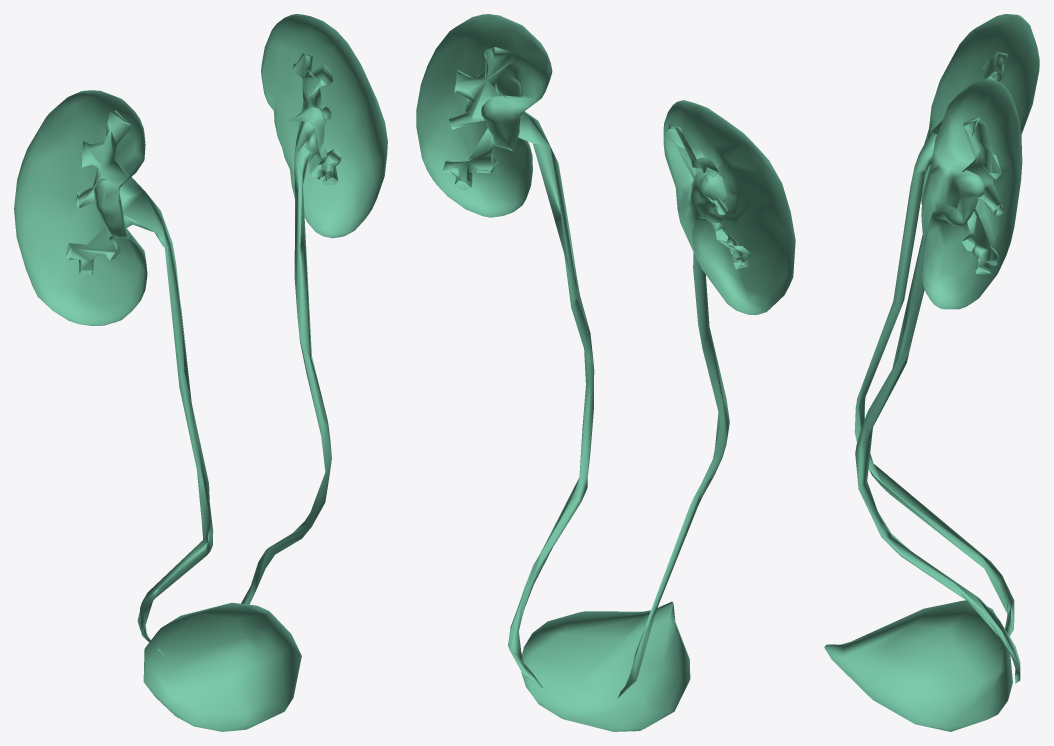
File: urinario.glb
3 views of the same model, side by side, from view 1: azimuth 30°, elevation 25°; view 2: azimuth 150°, elevation 25°; view 3: azimuth 270°, elevation 25° (orthographic). The views are drawn at different scales.
Parts seen in each view (by area): view 1: rins, ureteres, bexiga; view 2: rins, ureteres, bexiga; view 3: rins, bexiga, ureteres.
Boxes of the visible parts, x1,y1,x2,y2 form: rins: [14, 14, 387, 325]; ureteres: [65, 53, 341, 656]; bexiga: [143, 602, 301, 731]; rins: [416, 14, 795, 314]; ureteres: [443, 47, 750, 698]; bexiga: [521, 601, 690, 731]; rins: [921, 14, 1039, 309]; bexiga: [824, 600, 1012, 731]; ureteres: [854, 52, 1020, 683].
Bounding box in the file's own units: 1.74 × 3.17 × 0.9067.
